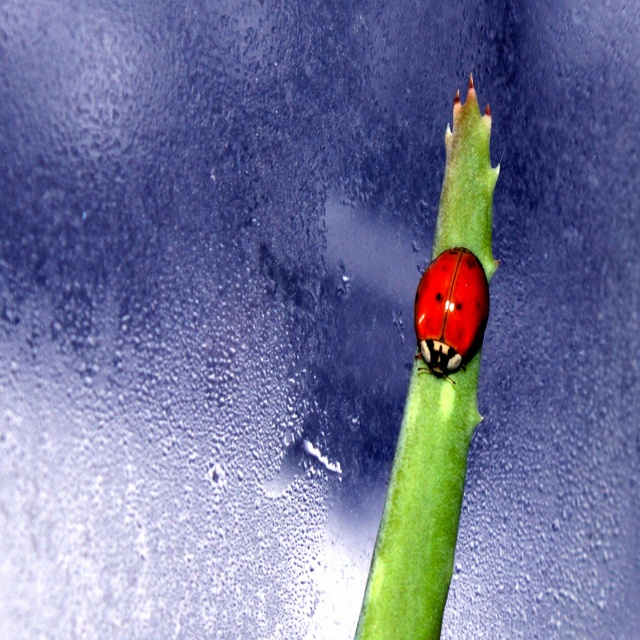Ladybug: (412, 244, 490, 384)
